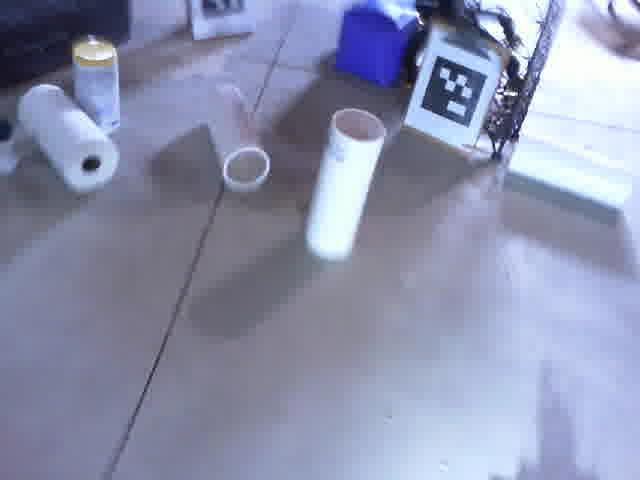coral: (304, 109, 389, 261), (201, 83, 269, 187)
